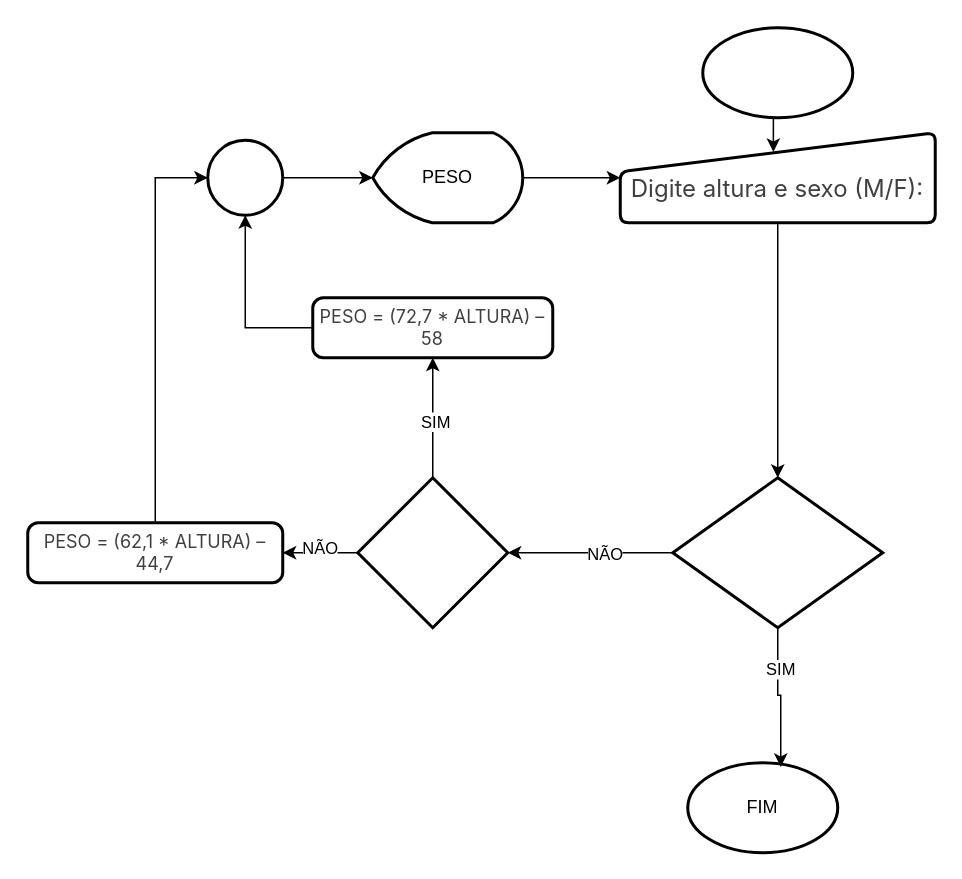
Some shapes in this 962 by 879 pixel diagram are drawn without their labels. The box of each missing label's shape, as (x1, y1, x2, y2) in pixels:
"ALTURA = 0 e SEXO = VAZIO?: (670, 476, 884, 628)
INICIO: (700, 26, 854, 118)
SEXO = M?: (356, 476, 508, 628)
